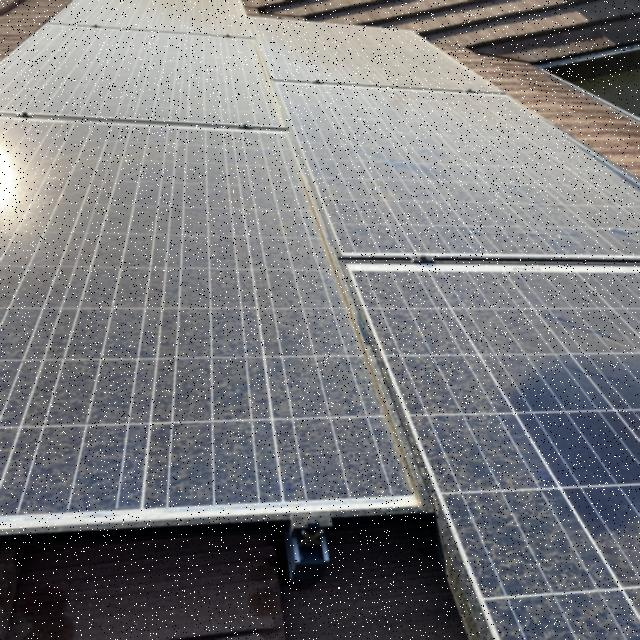dusty: (2, 115, 400, 522), (355, 270, 640, 639)
